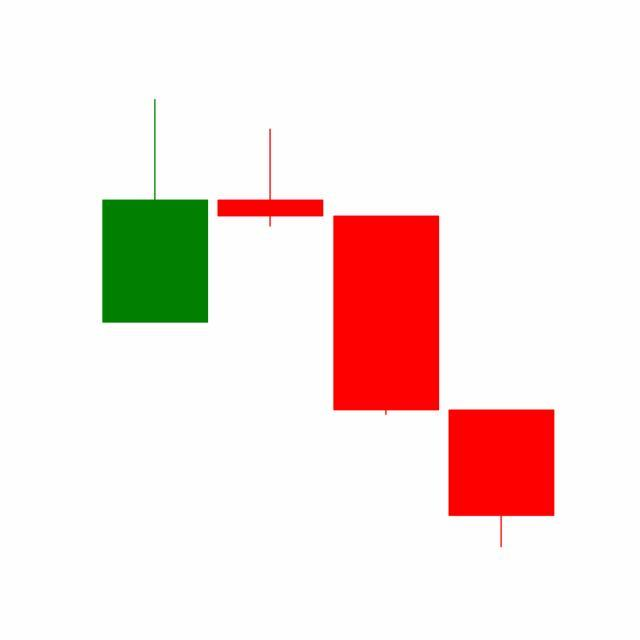Marubozu: (329, 214, 445, 418)
